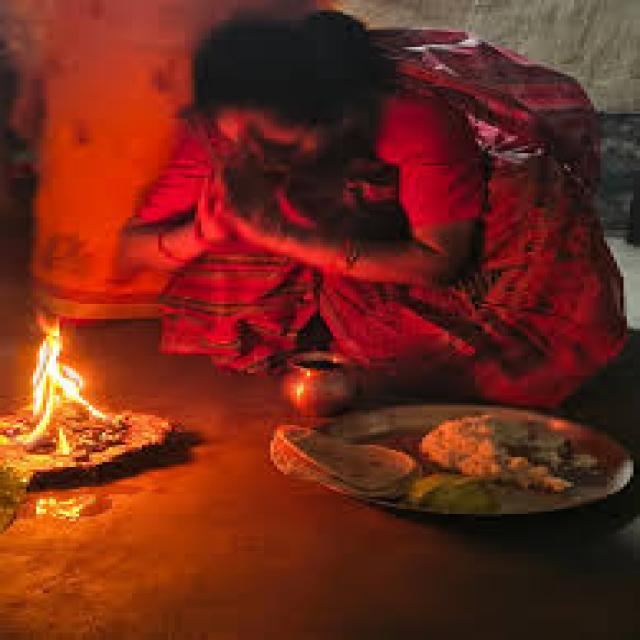fire: (18, 312, 107, 448)
